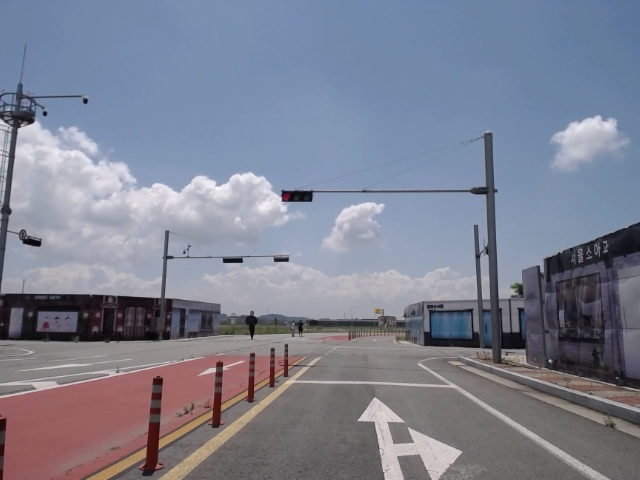red_3: (281, 191, 316, 202)
